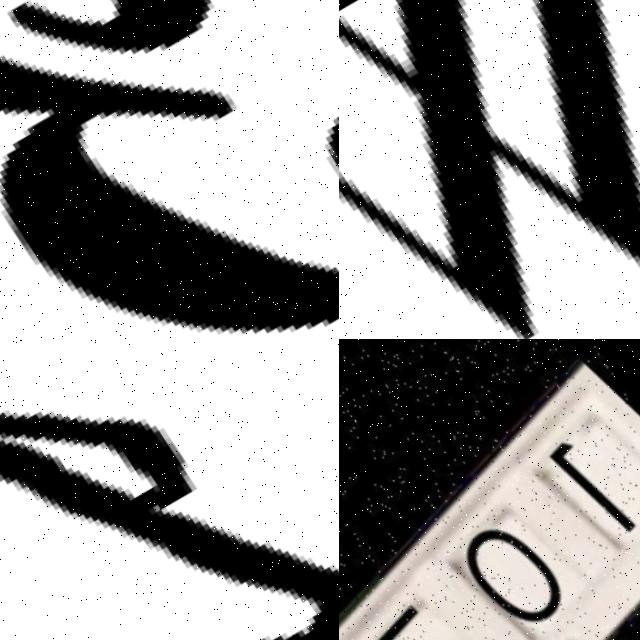0: (416, 468, 602, 640)
1: (507, 370, 640, 562)
3: (0, 0, 339, 339)
7: (339, 556, 519, 640)
J: (0, 339, 339, 640)
W: (339, 0, 640, 339)
